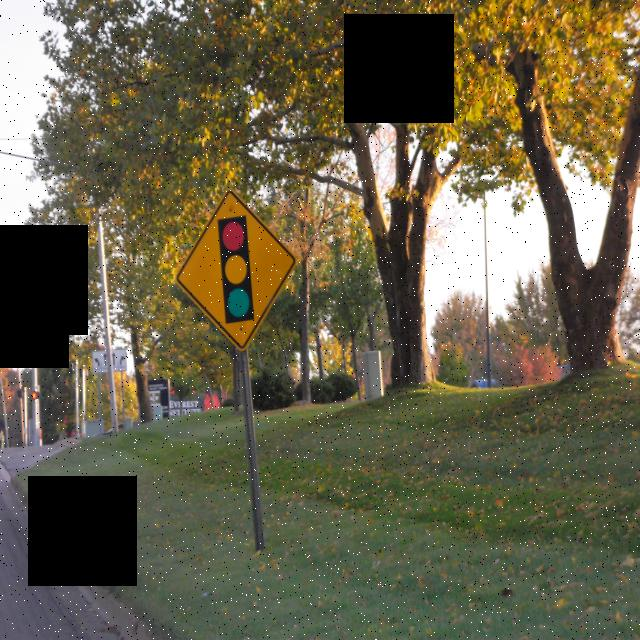regulatory: (91, 348, 110, 374), (111, 348, 129, 375)
warning: (170, 190, 300, 360)
